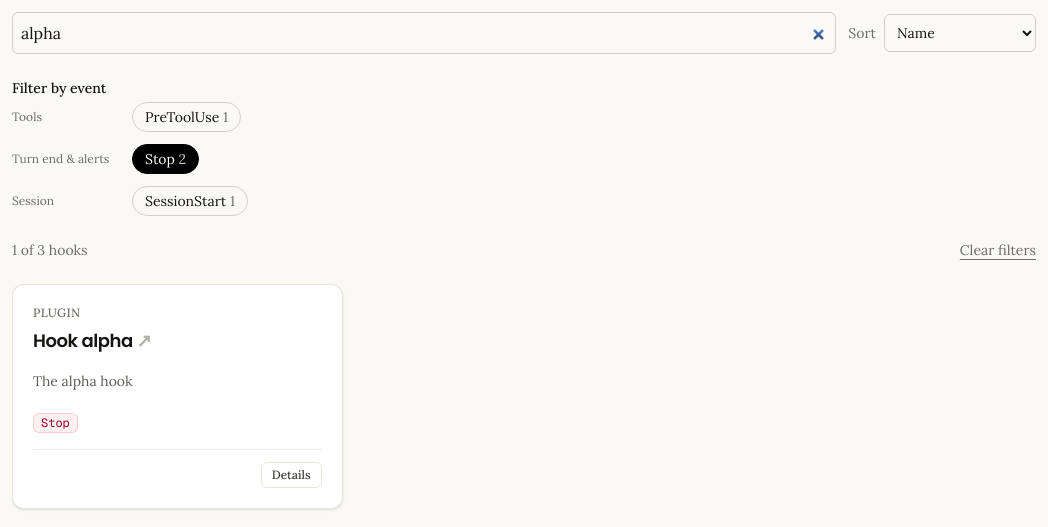
Test case: HookBrowser › clears every filter and puts focus in the search box
Click the button "Clear filters" at (998, 250), box [960,240,1036,260]
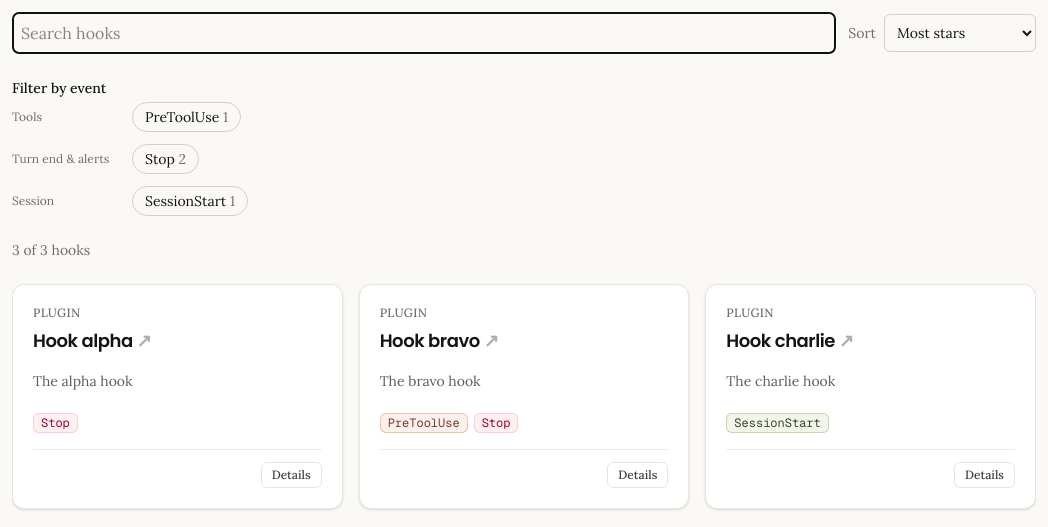
Expected: the search field is empty, [12,12,836,54]
Expected: the text "3 of 3 hooks" is shown, [12,240,90,260]
Expected: the button "Clear filters" is gone
